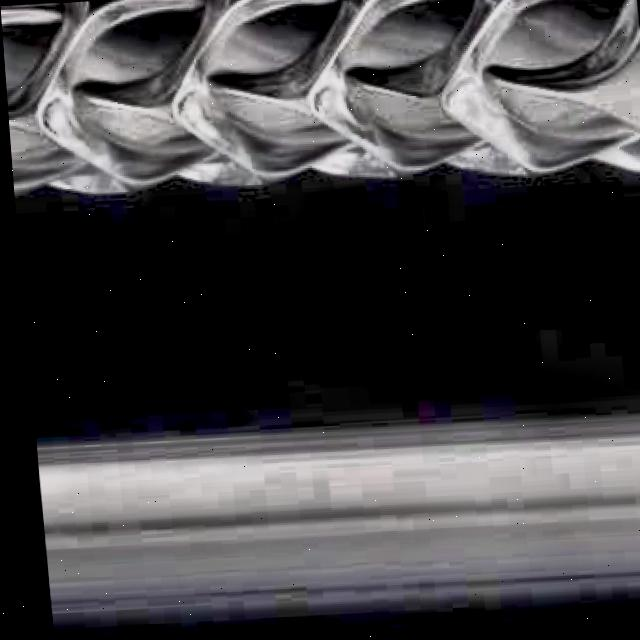metal: (25, 393, 640, 640), (0, 0, 640, 221)
